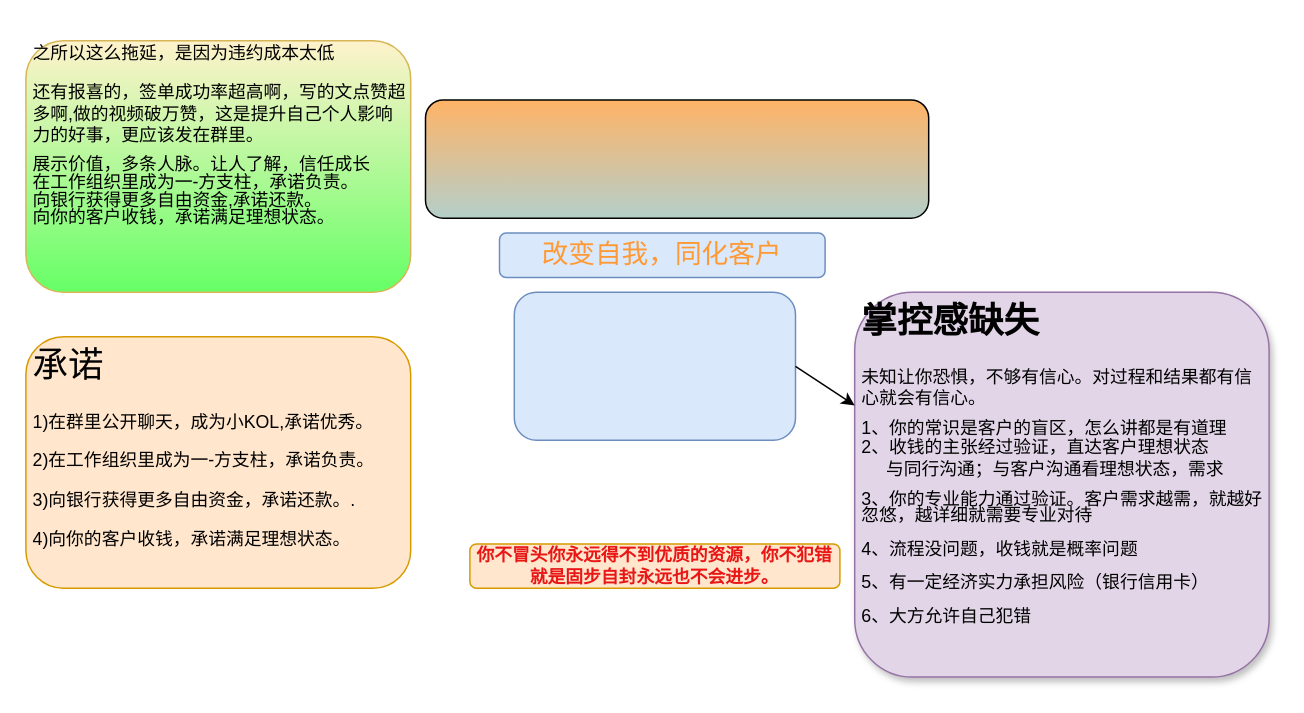
Image size: 1304x713. Some labels were removed from this diagram. The shapes that lost their labels are listed below. From the top down, each one's centre as x and y in pixels, then its label:
At point (676, 158): "世界是多面的，你不能改变世界， 但你可以改变自己，决定你能看到哪个面。 让自己变的有选择余地，而不是碰到垃圾事情埋怨环境".
At point (654, 365): "1、不要抱着养客户的心态去谈生意。优柔寡断收不到钱。 2、要么买就买，不买就不买不存在考虑一下再买 自己爽快，买家才能爽快".
